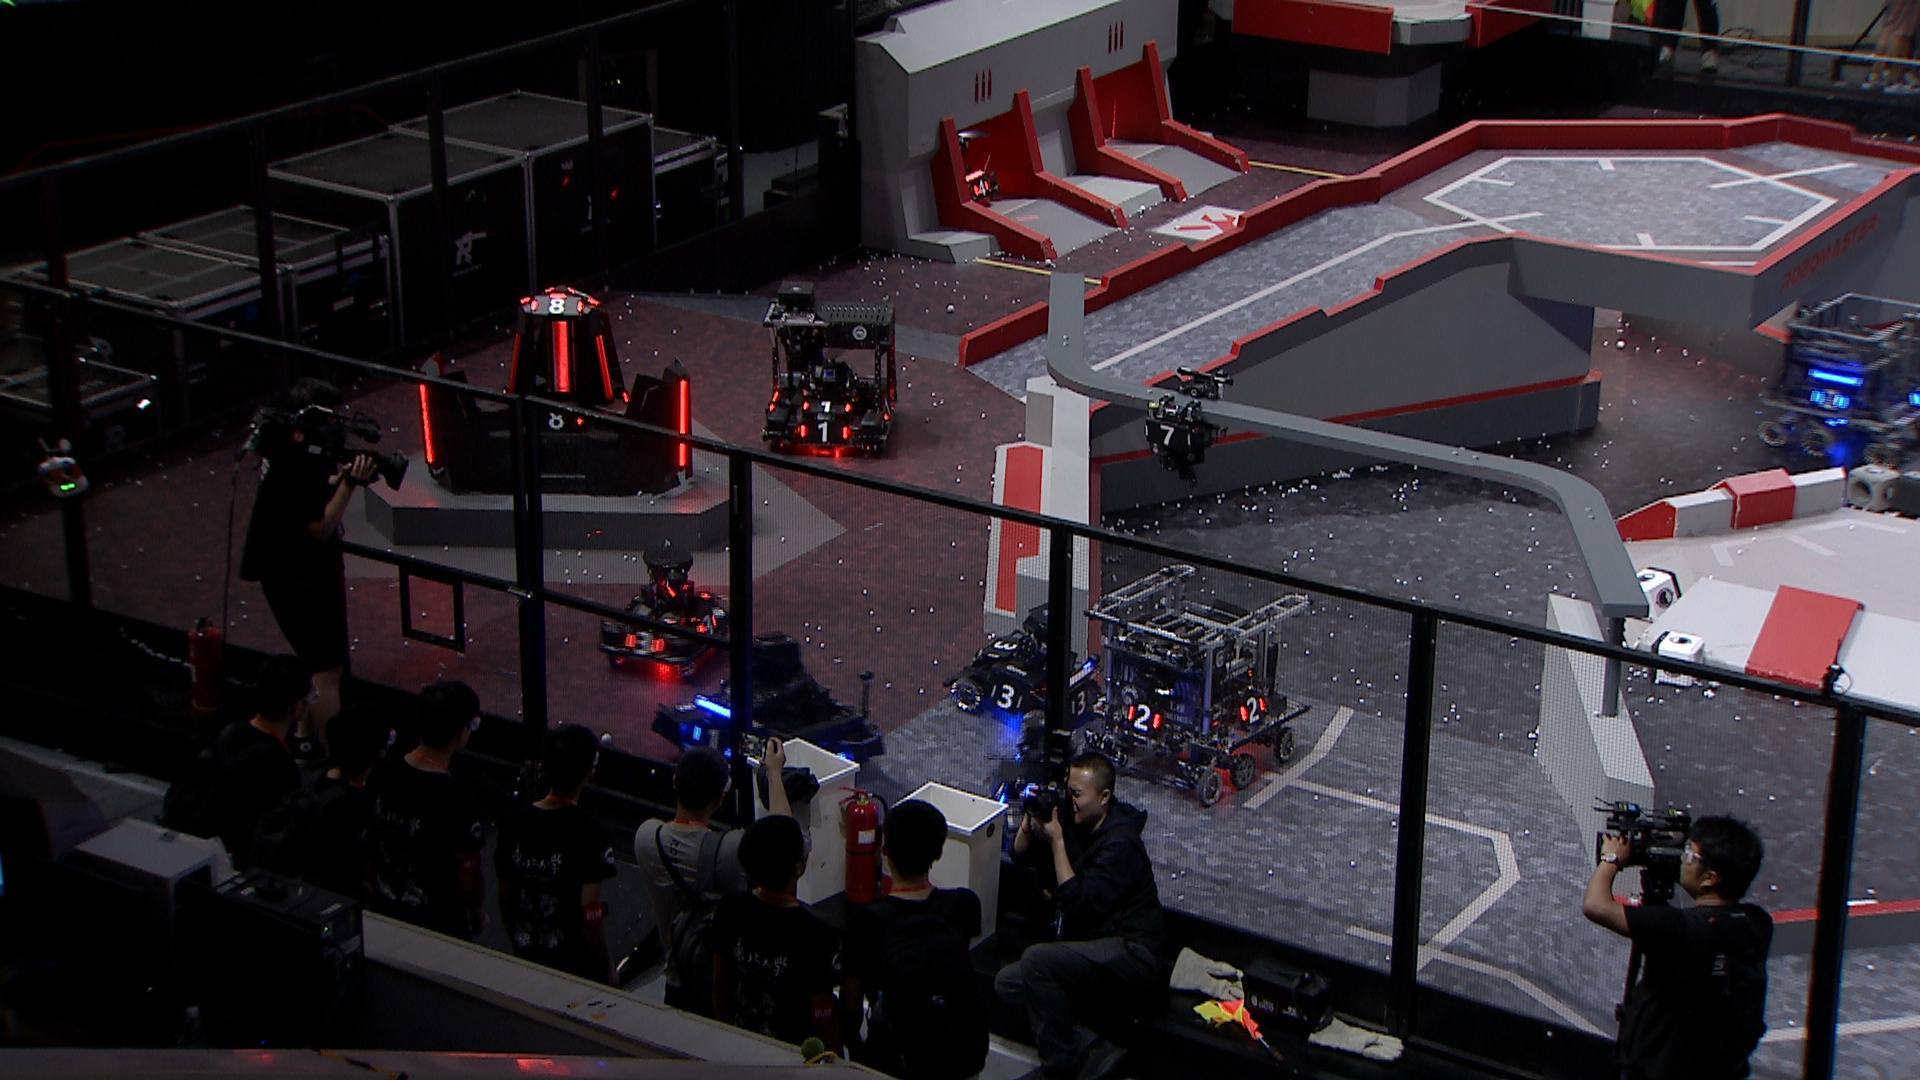armor: (673, 380, 694, 469), (415, 380, 436, 465), (690, 723, 735, 760), (551, 318, 572, 394), (593, 334, 615, 401), (1143, 419, 1195, 446), (1122, 700, 1163, 732), (796, 422, 855, 443), (622, 629, 665, 657), (984, 632, 1026, 659), (529, 297, 585, 316), (1811, 385, 1850, 413), (505, 334, 522, 396), (986, 683, 1025, 709), (1237, 695, 1269, 727), (1067, 684, 1096, 717), (796, 400, 852, 417), (538, 410, 585, 429), (695, 611, 719, 637), (971, 175, 992, 196), (880, 398, 895, 419)
base: (411, 282, 698, 498)
car: (1077, 560, 1311, 804), (651, 626, 891, 796), (1756, 291, 1920, 472), (752, 277, 906, 458), (981, 712, 1131, 858), (949, 600, 1106, 735), (599, 538, 740, 678), (895, 129, 998, 214)
watcher: (1138, 365, 1233, 491)
